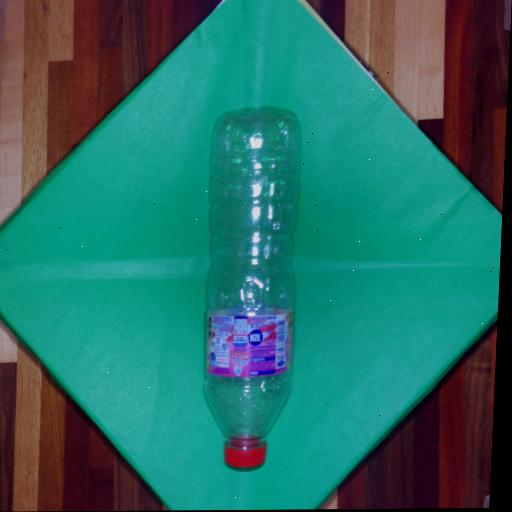bottle: (200, 105, 303, 471)
